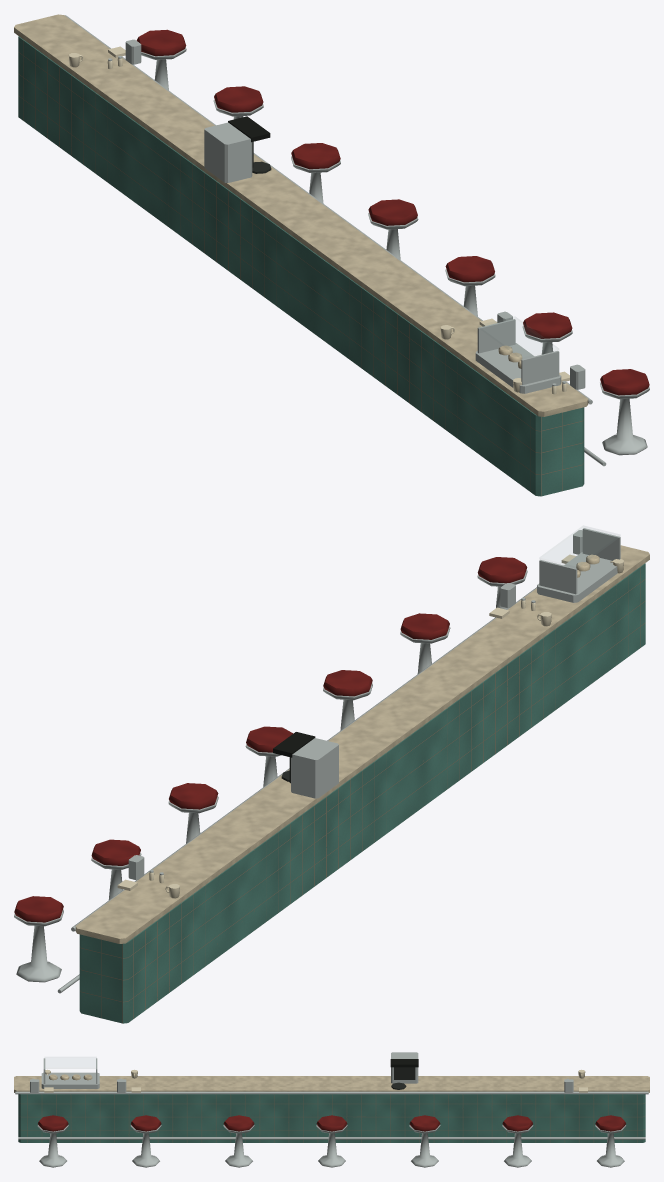
The model's file is SM_Mesa_Counter_LOD2.fbx.
3 views of the same model, one above another, from view 1: azimuth 30°, elevation 25°; view 2: azimuth 150°, elevation 25°; view 3: azimuth 270°, elevation 25° (orthographic). The views are drawn at different scales.
Parts seen in each view (by area): view 1: SM_Mesa_Counter_LOD2; view 2: SM_Mesa_Counter_LOD2; view 3: SM_Mesa_Counter_LOD2.
Boxes of the visible parts, left/top/right/bottom form: SM_Mesa_Counter_LOD2: left=14, top=14, right=649, bottom=496; SM_Mesa_Counter_LOD2: left=14, top=528, right=649, bottom=1023; SM_Mesa_Counter_LOD2: left=14, top=1052, right=649, bottom=1167.
Size of the model in its own units: 1.68 by 10.95 by 1.46.
